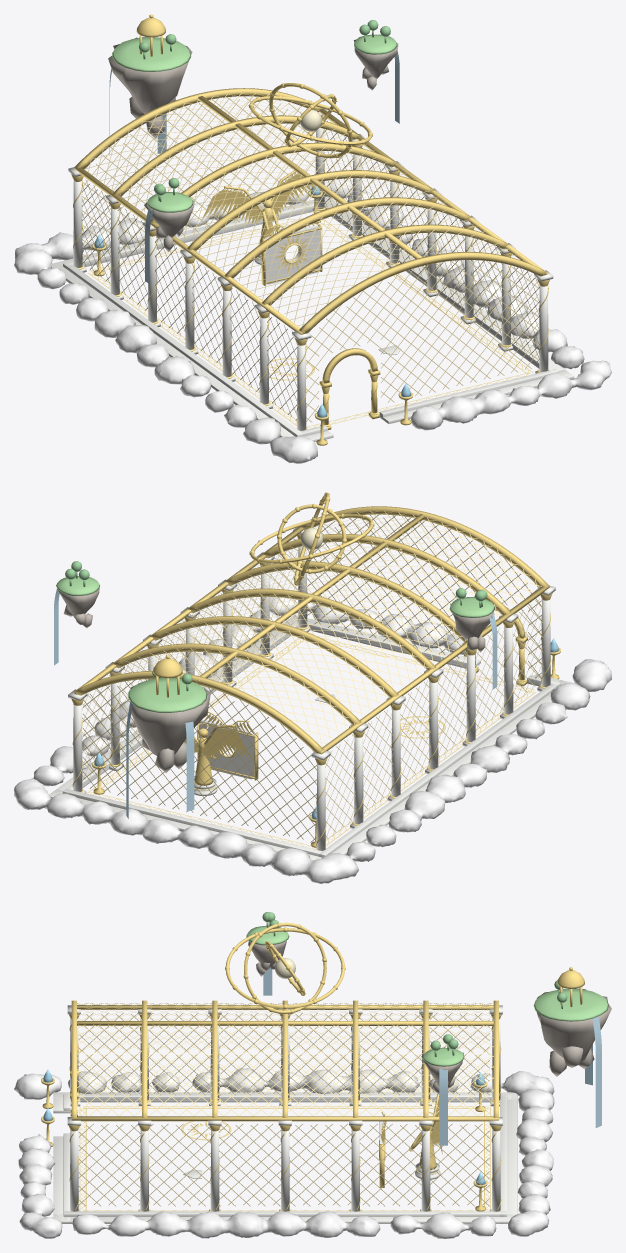
Rendered from SkyTempleCage.fbx.
3 views of the same model, one above another, from view 1: azimuth 30°, elevation 25°; view 2: azimuth 150°, elevation 25°; view 3: azimuth 270°, elevation 25° (orthographic). The views are drawn at different scales.
Parts seen in each view (by area): view 1: SkyClouds, SkyGold, SkyLatticeSides, SkyLatticeRoof, SkyMarble, SkyPlinth, SkyIslandCRock, SkyInlay, SkyStatue, SkyIslandCGrass, SkyScreen, SkyDoorway (+9 smaller); view 2: SkyClouds, SkyGold, SkyLatticeSides, SkyLatticeRoof, SkyMarble, SkyPlinth, SkyIslandCRock, SkyInlay, SkyIslandCGrass, SkyStatue, SkyScreen, SkyIslandCFalls (+10 smaller); view 3: SkyClouds, SkyGold, SkyLatticeSides, SkyLatticeRoof, SkyPlinth, SkyMarble, SkyIslandCRock, SkyInlay, SkyIslandCGrass, SkyRingOuter, SkyRingMiddle, SkyIslandCFalls (+8 smaller).
Boxes of the visible parts, x1,y1,x2,y2 form: SkyClouds: (14, 178, 611, 463); SkyGold: (71, 88, 549, 429); SkyLatticeSides: (82, 96, 539, 422); SkyLatticeRoof: (85, 93, 524, 325); SkyMarble: (68, 109, 553, 430); SkyPlinth: (51, 196, 574, 441); SkyIslandCRock: (108, 37, 192, 138); SkyInlay: (88, 219, 533, 428); SkyStatue: (202, 170, 317, 254); SkyIslandCGrass: (112, 37, 190, 71); SkyScreen: (264, 225, 320, 284); SkyDoorway: (319, 348, 380, 429); SkyClouds: (14, 597, 611, 883); SkyGold: (71, 506, 552, 849); SkyLatticeSides: (82, 514, 543, 842); SkyLatticeRoof: (98, 511, 541, 746); SkyMarble: (68, 527, 555, 850); SkyPlinth: (49, 615, 573, 860); SkyIslandCRock: (130, 682, 210, 772); SkyInlay: (87, 637, 536, 849); SkyIslandCGrass: (128, 678, 207, 712); SkyStatue: (138, 724, 251, 785); SkyScreen: (199, 720, 255, 779); SkyIslandCFalls: (126, 702, 194, 818); SkyClouds: (14, 1068, 554, 1238); SkyGold: (69, 1000, 501, 1211); SkyLatticeSides: (78, 1012, 489, 1206); SkyLatticeRoof: (77, 1003, 493, 1116); SkyPlinth: (53, 1092, 517, 1223); SkyMarble: (67, 1005, 502, 1211); SkyIslandCRock: (536, 988, 611, 1076); SkyInlay: (79, 1106, 490, 1211); SkyIslandCGrass: (533, 988, 608, 1021); SkyRingOuter: (225, 927, 345, 1009); SkyRingMiddle: (243, 922, 326, 1013); SkyIslandCFalls: (585, 1017, 601, 1127).
Size of the model in its own units: 1075 by 726 by 1700.
